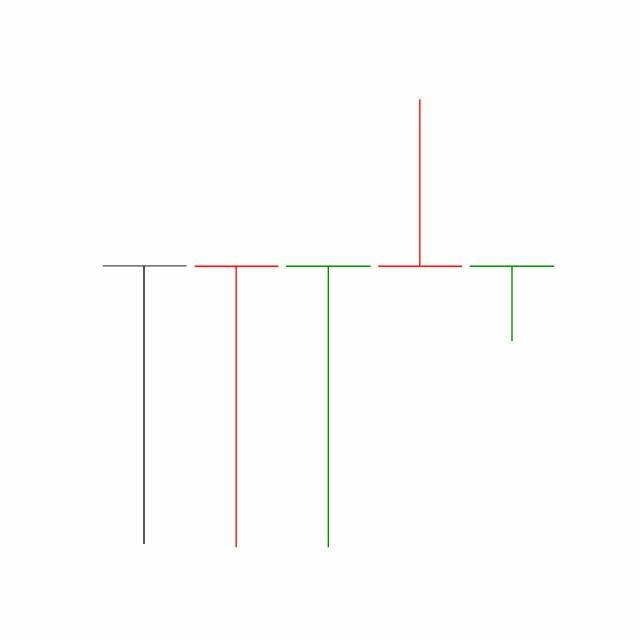Dragonfly Doji: (466, 266, 559, 344)
